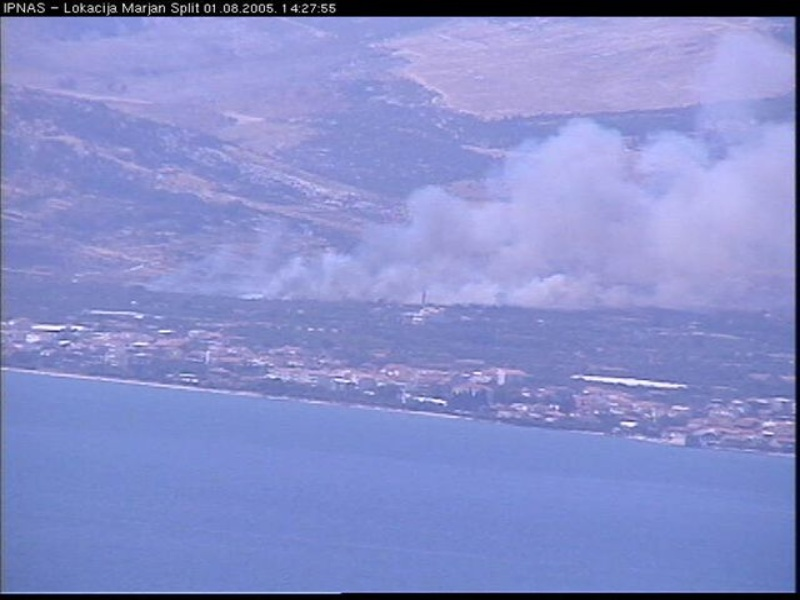smoke: (416, 135, 783, 293)
